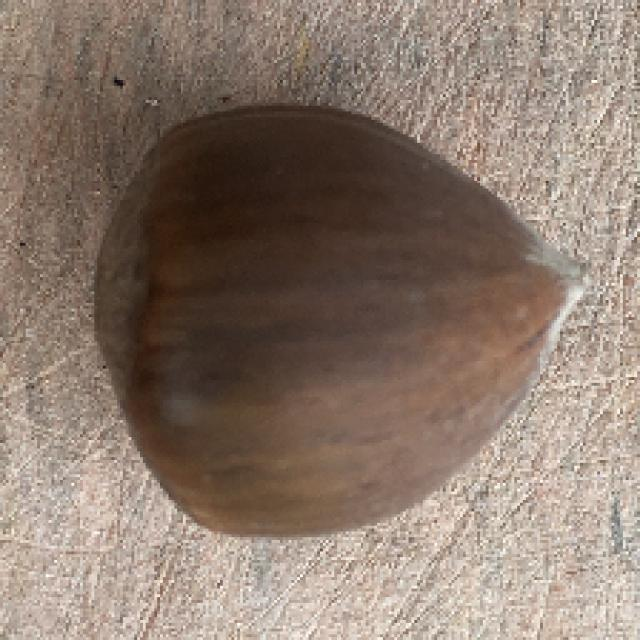damagedHazelnut: (90, 101, 588, 548)
